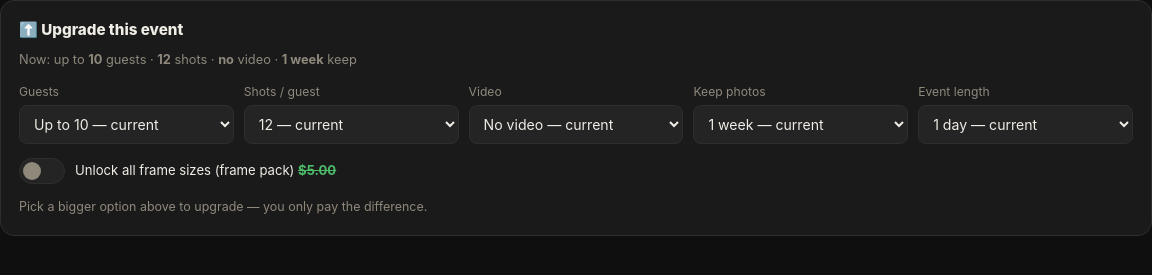
Test: the upgrade panel’s keep-photos control › gives the tier’s month back when the host drops the guest tier again
This screenshot has width=1152, height=275.
Expected: the dropdown labelled "Keep photos" shows "1 week — current", x1=693 y1=105 x2=908 y2=144
Select "Up to 60 — +$15.00" in the dropdown labelled "Guests". click: (126, 125)
box: x1=19 y1=105 x2=234 y2=144
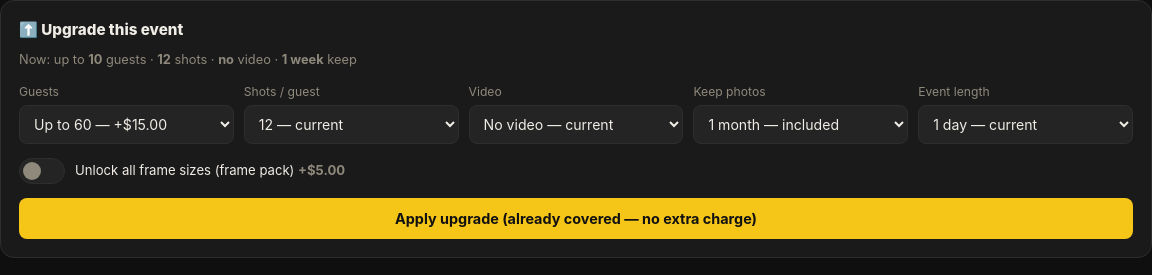
Expected: the dropdown labelled "Keep photos" shows "1 month — included", x1=693 y1=105 x2=908 y2=144
Select "Up to 10 — current" in the dropdown labelled "Guests". click: (126, 125)
box: x1=19 y1=105 x2=234 y2=144
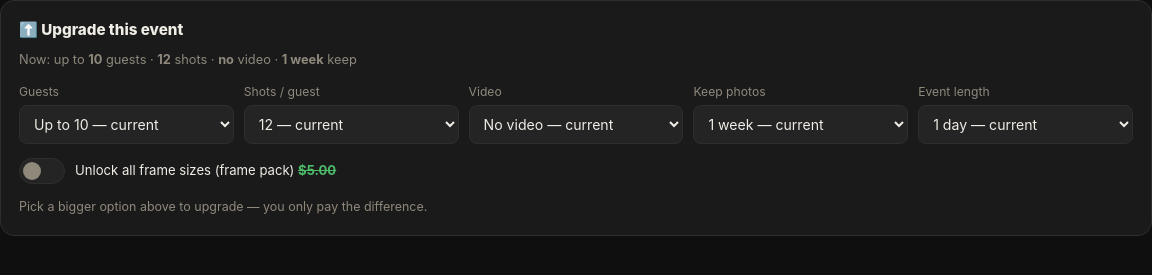
Expected: the dropdown labelled "Keep photos" shows "1 week — current", x1=693 y1=105 x2=908 y2=144
